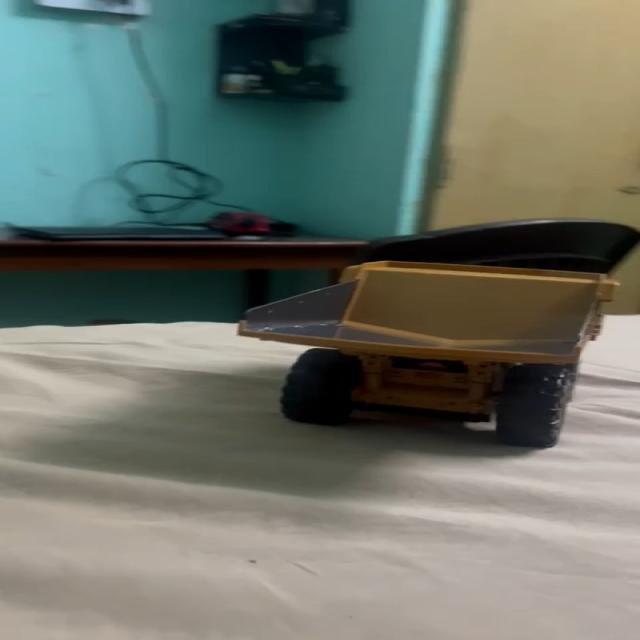dump_truck: (246, 253, 613, 444)
